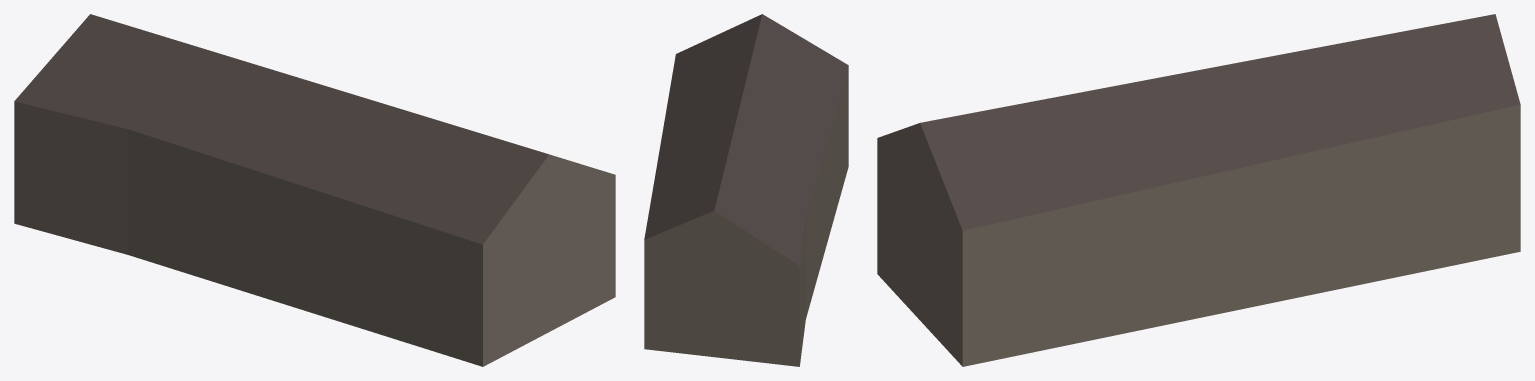
3 renders of one model, left to right at view 1: azimuth 30°, elevation 25°; view 2: azimuth 150°, elevation 25°; view 3: azimuth 270°, elevation 25°, orthographic. The views are drawn at different scales.
Visible parts, largest first — view 1: HP-w1515076956; view 2: HP-w1515076956; view 3: HP-w1515076956.
Part boxes in pixels (x1,y1,x2,y2): HP-w1515076956: (14, 14, 615, 366); HP-w1515076956: (644, 14, 848, 366); HP-w1515076956: (877, 14, 1520, 366).
Size of the model in its own units: 19.3 by 8.72 by 25.71.
